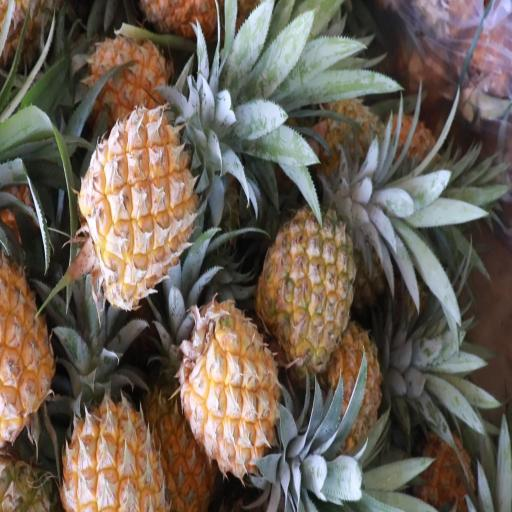------------------------------: (262, 207, 354, 366)
Pineapple - v8 v1: (83, 114, 195, 305), (181, 303, 279, 467), (63, 361, 162, 512), (147, 370, 216, 512), (88, 35, 171, 116)
